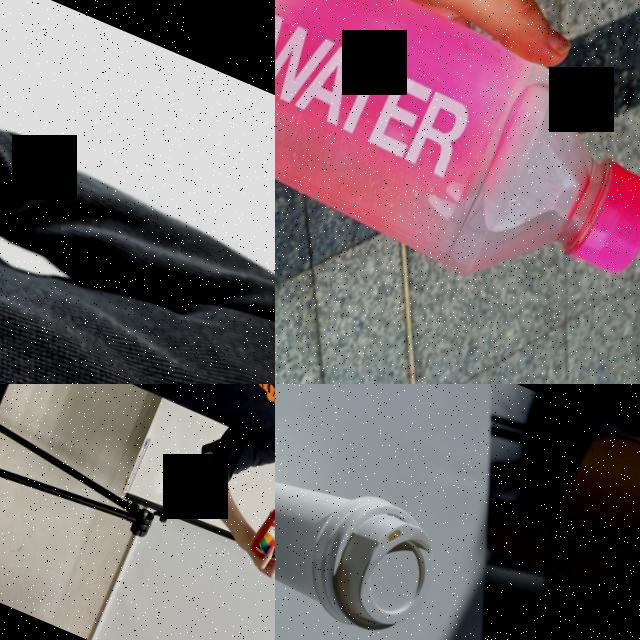bottle: (275, 0, 640, 336)
cup: (275, 427, 454, 640)
